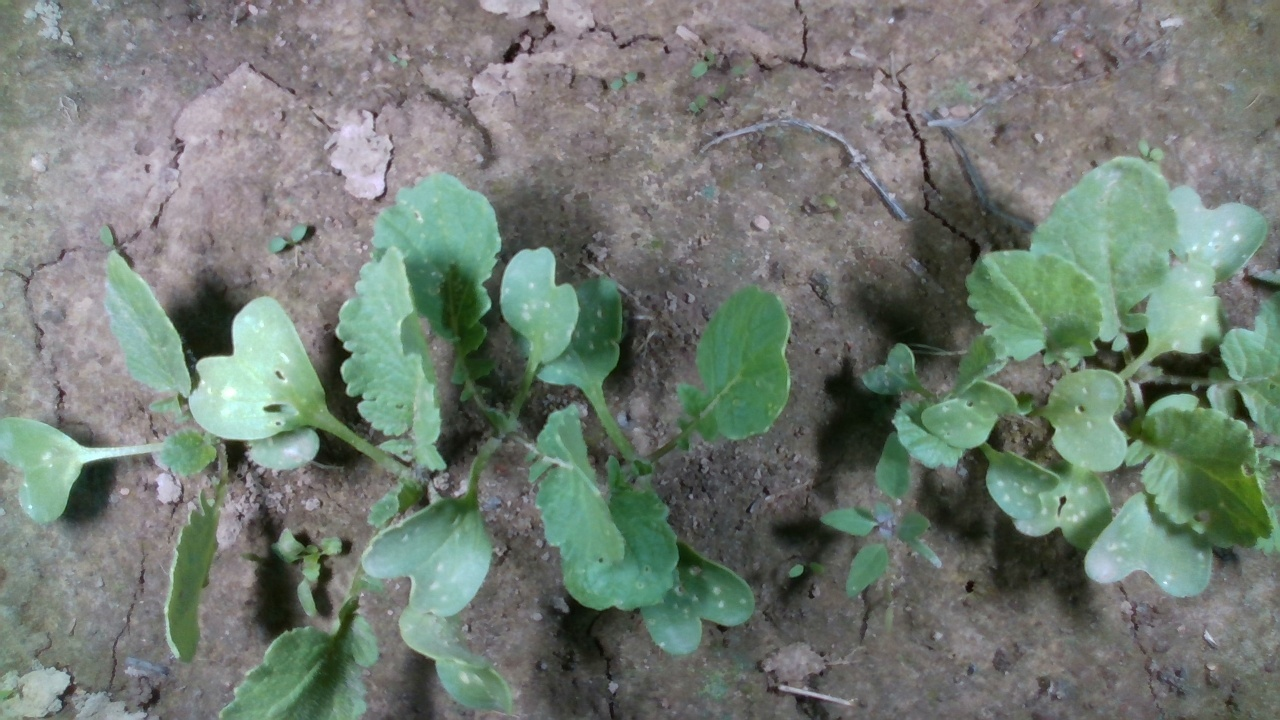weed: (266, 221, 308, 255), (786, 559, 827, 580), (608, 70, 639, 91)
